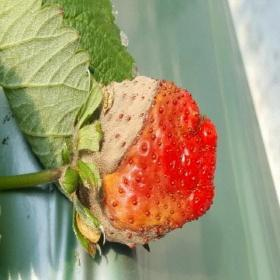Gray Mold: (77, 76, 219, 249)
